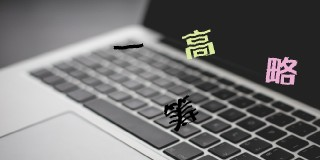一: (112, 43, 146, 50)
略: (263, 53, 298, 87)
筹: (164, 94, 199, 133)
高: (181, 27, 217, 59)
